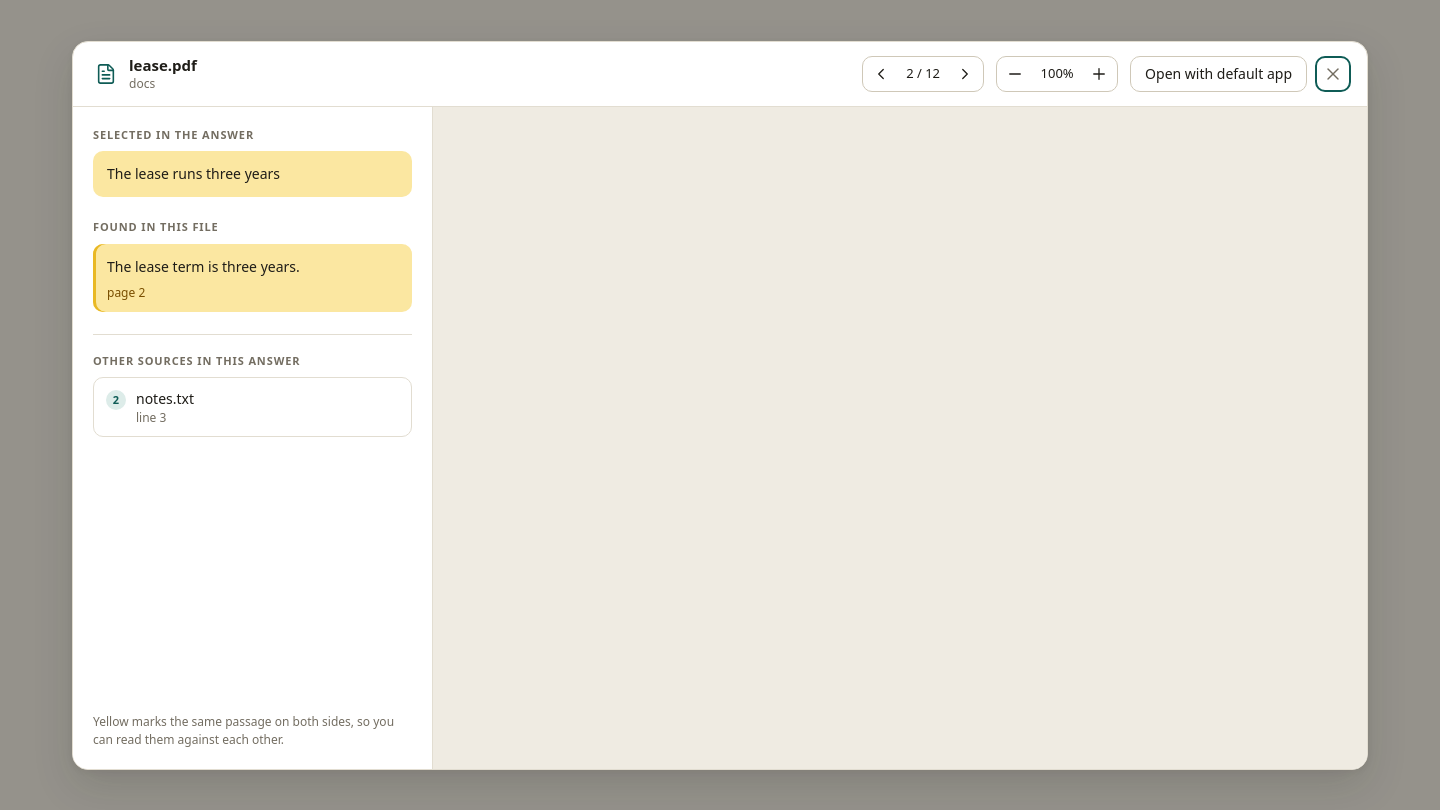
it: DocumentViewer, left pane › switches to another source of the answer: it locates the whole snapshot of that source
Step 1. Click the button with class "source-card" → click(165, 398), box x1=93 y1=377 x2=412 y2=437
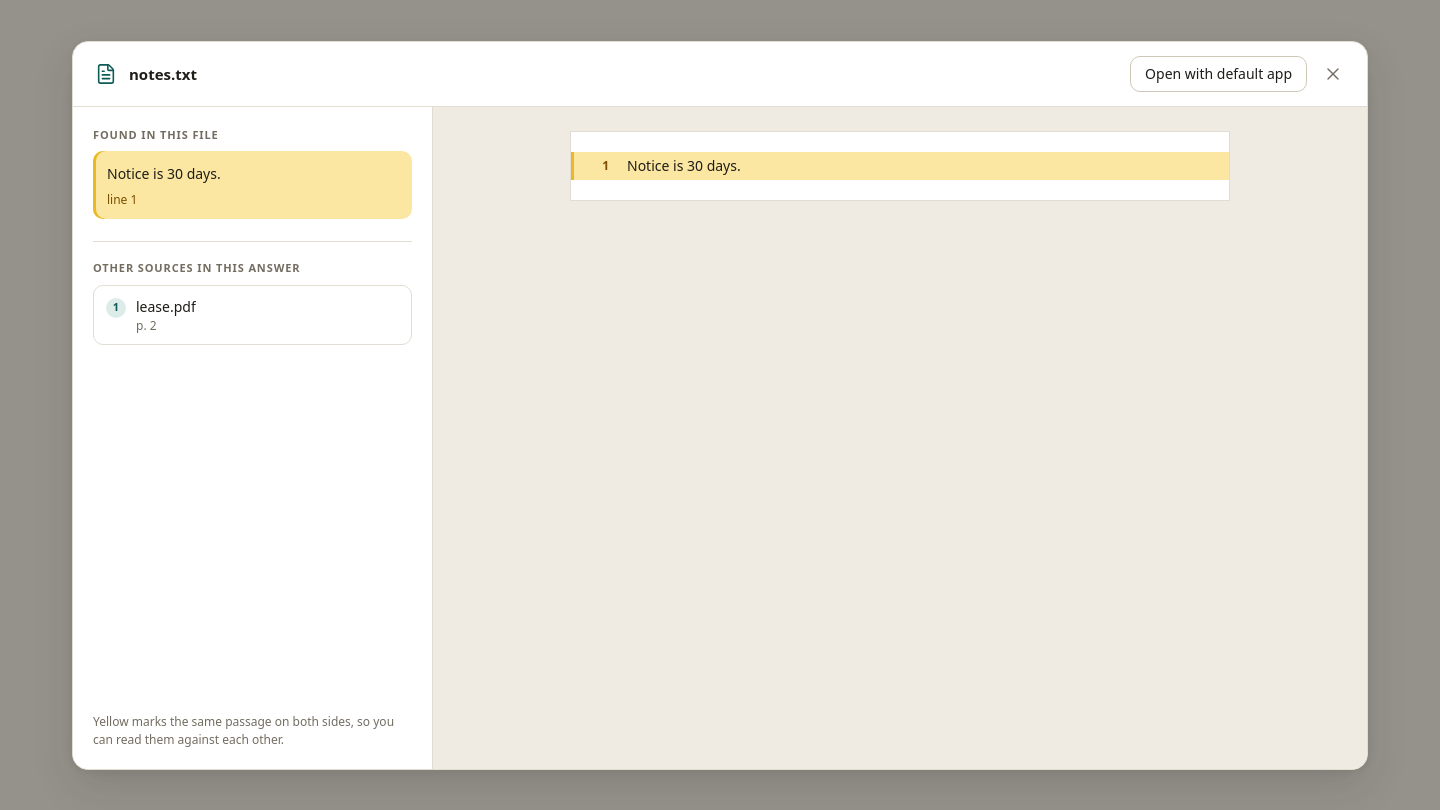
Check: the heading "notes.txt" is shown, box x1=129 y1=64 x2=197 y2=84
Check: the text "Notice is 30 days." below "Found in this file" is shown, box x1=107 y1=164 x2=221 y2=183
Check: the text "line 1" is shown, box x1=107 y1=191 x2=137 y2=208
